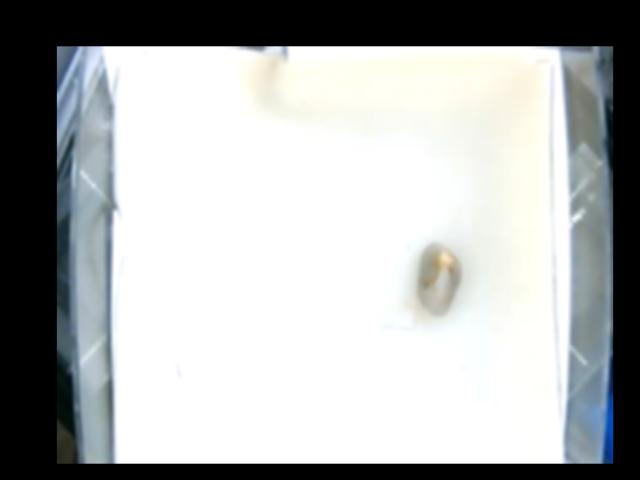Pebble: (419, 241, 461, 314)
